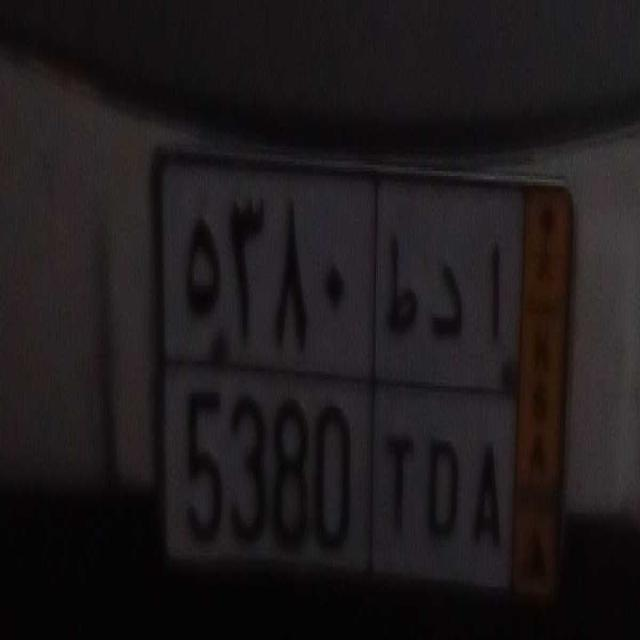license_plate: (167, 352, 509, 580)
